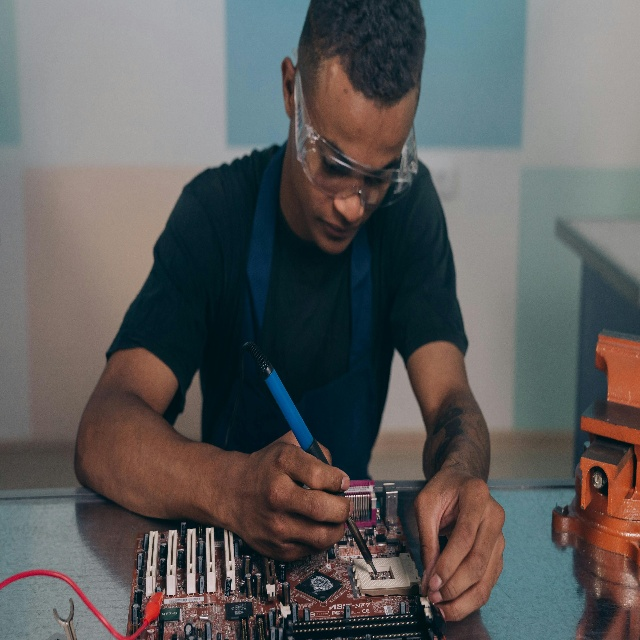Gafas: (291, 72, 420, 215)
Sin_guantes: (246, 426, 353, 559), (412, 474, 504, 621)
